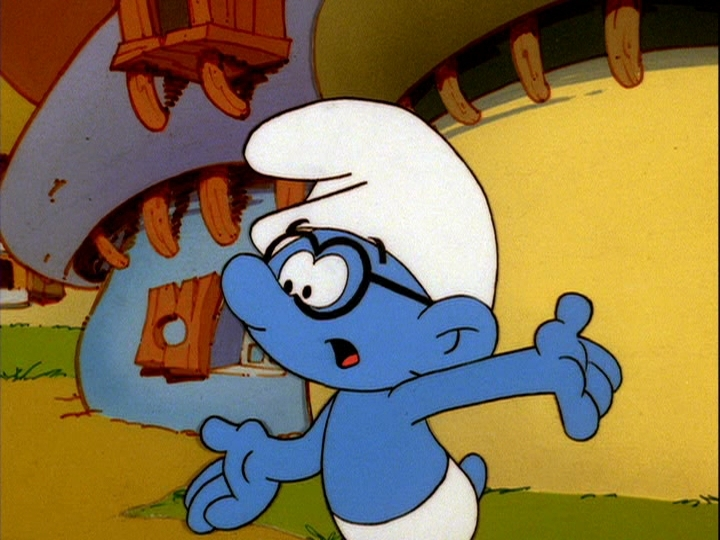smurf: (175, 94, 631, 540)
